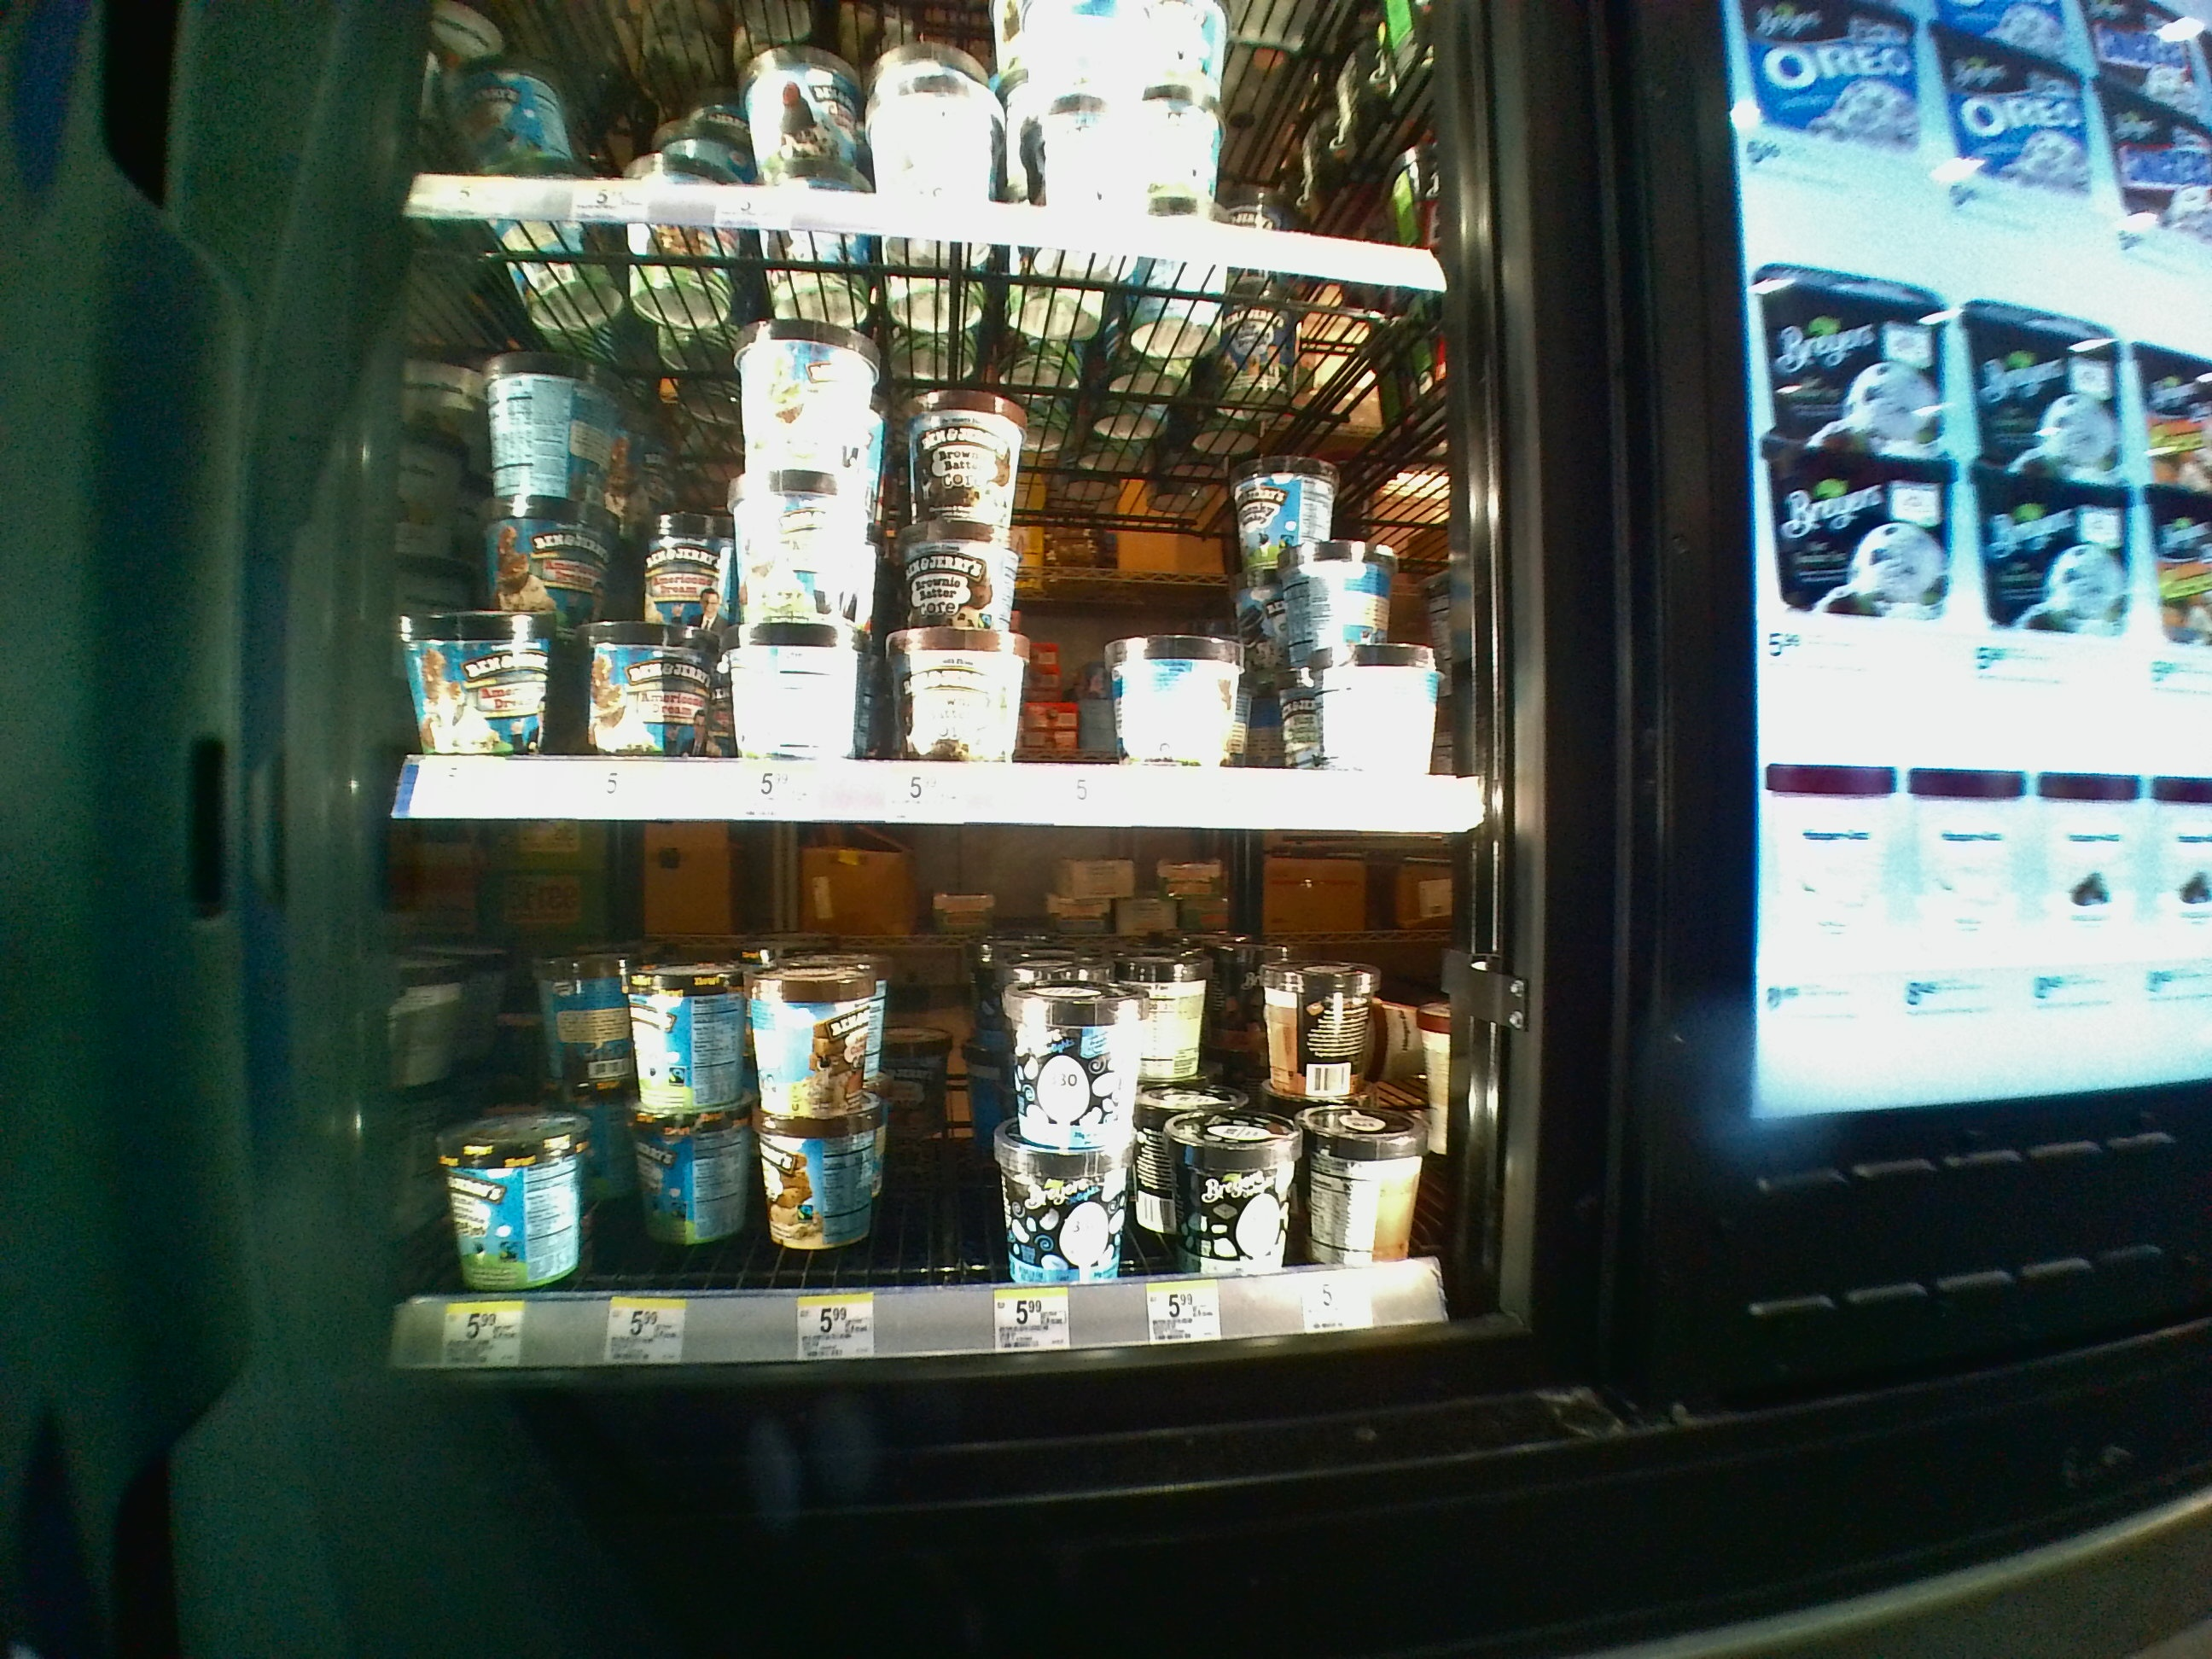shelf: (399, 225, 1475, 824), (392, 842, 1480, 1328)
